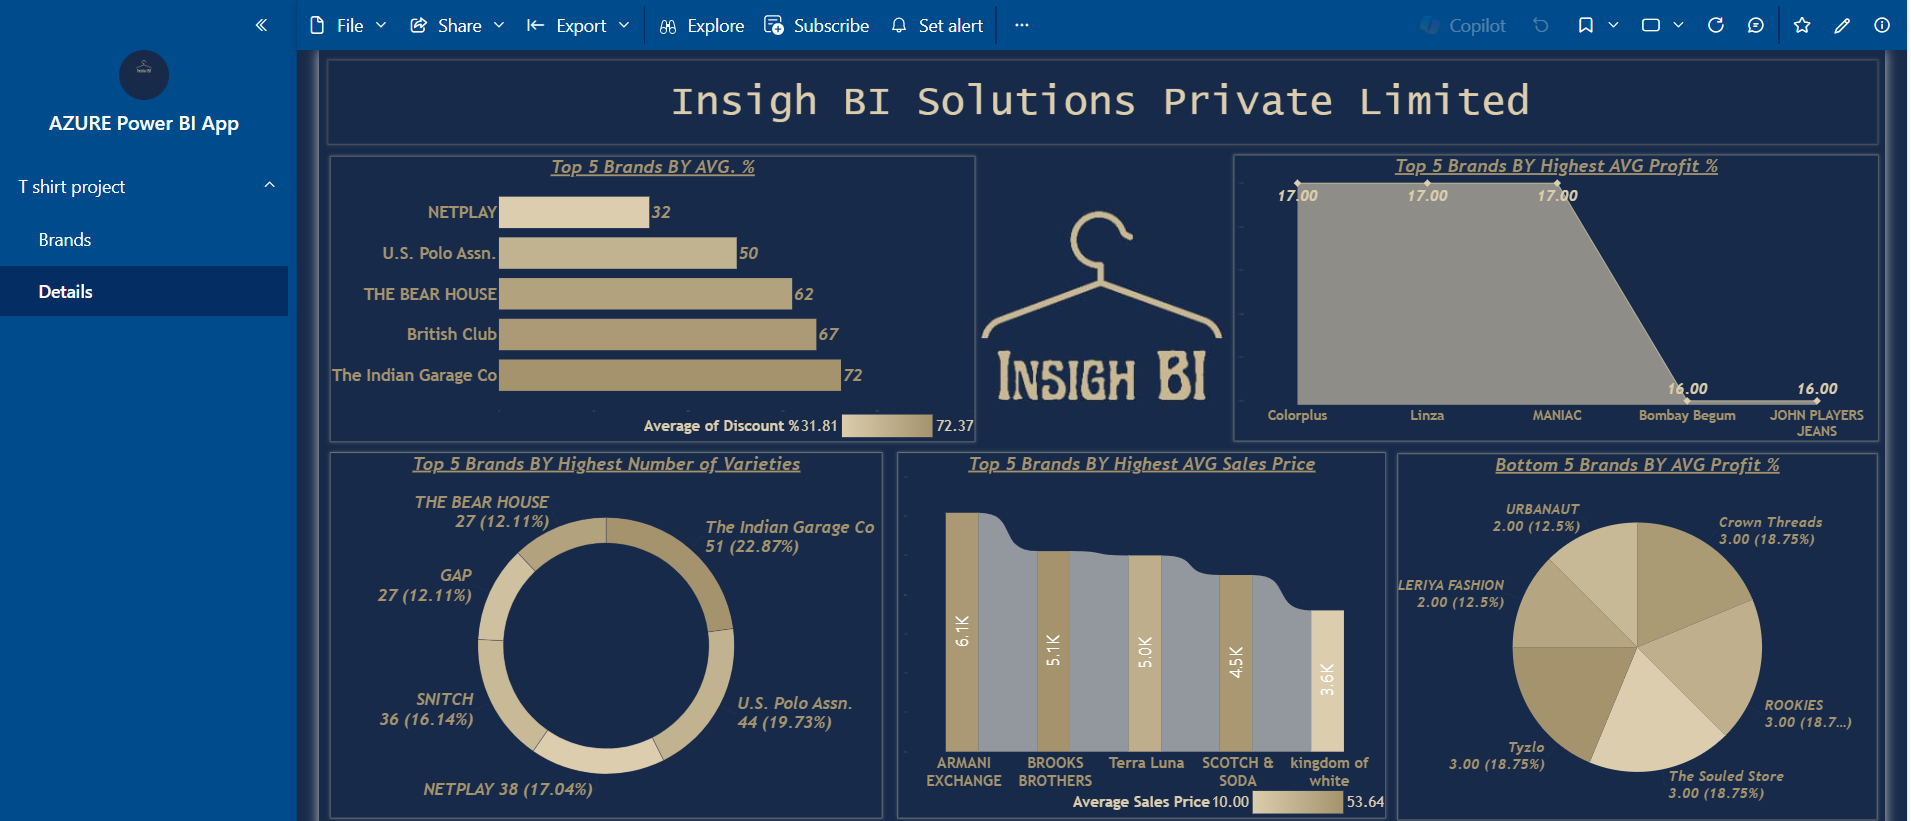

What the dashboard file says about the page in this screenshot:
{"tool":"powerbi","page":{"name":"Details","canvas":[6912,3456],"ordinal":1},"visuals":[{"type":"ScrollingTextVisual1448795304508","fields":{"Category":["Men+Tshirt.Brand"]},"box":[36.6,42.7,6841.3,371.9],"z":0},{"type":"donutChart","title":"Top 5 Brands BY Highest Number of Varieties","fields":{"Category":["Men+Tshirt.Brand"],"Y":["Count(Men+Tshirt.Title)"]},"box":[50.2,1777,2436.3,1613.7],"z":1000},{"type":"barChart","title":"Top 5 Brands BY AVG. %","fields":{"Category":["Men+Tshirt.Brand"],"Y":["Avg(Men+Tshirt.Discount %)"]},"box":[51.9,466.8,2845.4,1259.7],"z":2000},{"type":"ribbonChart","title":"Top 5 Brands BY Highest AVG Sales Price","fields":{"Category":["Men+Tshirt.Brand"],"Y":["Avg(Men+Tshirt.Sales Price)"]},"box":[2555.6,1777,2153.7,1613.7],"z":3000},{"type":"areaChart","title":"Top 5 Brands BY Highest AVG Profit %","fields":{"Category":["Men+Tshirt.Brand"],"Y":["Avg(Men+Tshirt.Profit %)"]},"box":[4037.5,464.7,2844.4,1262.1],"z":4000},{"type":"pieChart","title":"Bottom 5 Brands BY AVG Profit %","fields":{"Category":["Men+Tshirt.Brand"],"Y":["Avg(Men+Tshirt.Profit %)"]},"box":[4762.1,1780.4,2115.8,1615.8],"z":5000}]}

Visuals, with their boxes on the page's 6912x3456 design canvas (x1, y1, x2, y2). These are canvas units, not pixel positions in the 1911x821 screenshot, which may show the page scaled, cropped or inside an application window:
ScrollingTextVisual1448795304508 - Men+Tshirt.Brand: bbox=(37, 43, 6878, 415)
"Top 5 Brands BY Highest Number of Varieties" donutChart: bbox=(50, 1777, 2486, 3391)
"Top 5 Brands BY AVG. %" barChart: bbox=(52, 467, 2897, 1726)
"Top 5 Brands BY Highest AVG Sales Price" ribbonChart: bbox=(2556, 1777, 4709, 3391)
"Top 5 Brands BY Highest AVG Profit %" areaChart: bbox=(4038, 465, 6882, 1727)
"Bottom 5 Brands BY AVG Profit %" pieChart: bbox=(4762, 1780, 6878, 3396)
